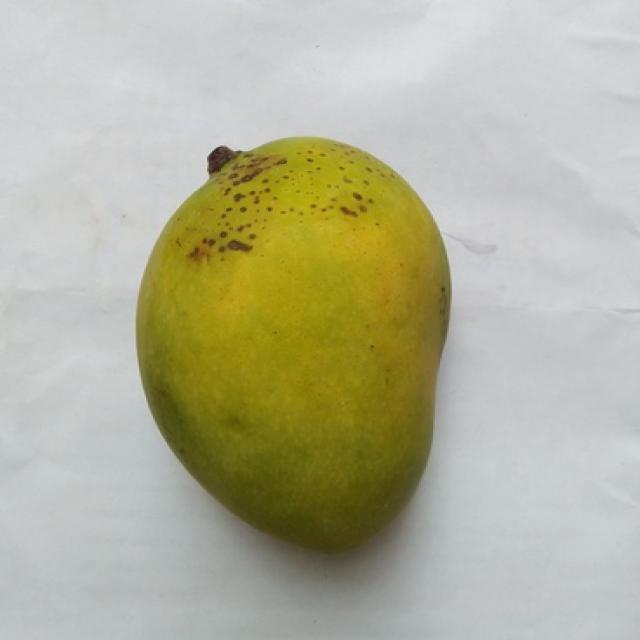Mango: (137, 138, 449, 550)
